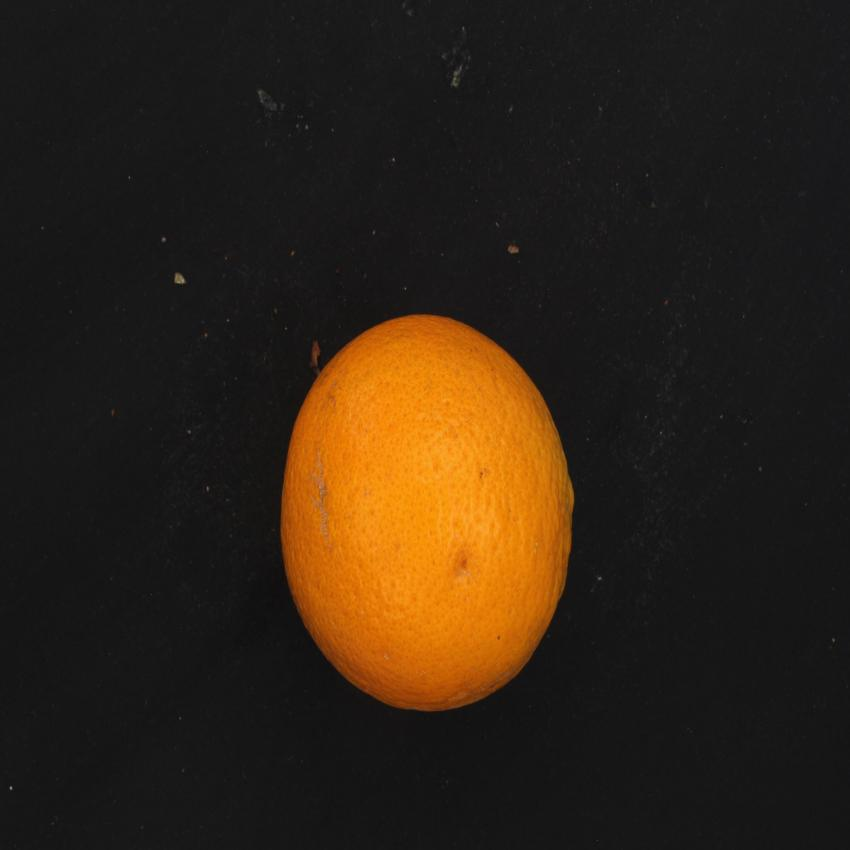Buen estado: (272, 298, 579, 720)
